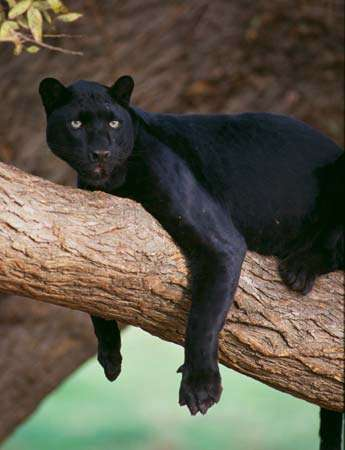panther: (36, 75, 345, 416)
